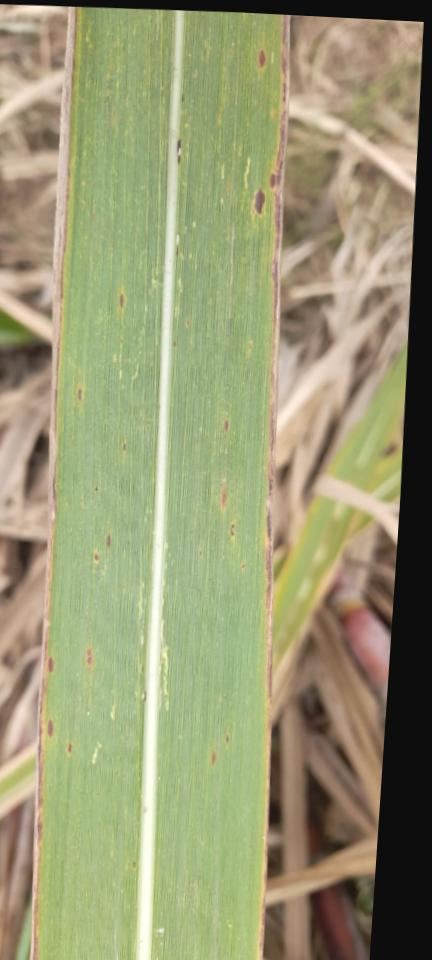Rust: (261, 15, 291, 734), (30, 623, 57, 960), (250, 187, 268, 219), (220, 477, 229, 508), (257, 46, 267, 70), (228, 518, 239, 538), (84, 645, 94, 666), (117, 290, 125, 311), (65, 738, 74, 756), (176, 137, 182, 164), (209, 749, 219, 765), (223, 417, 232, 434), (76, 384, 84, 402), (121, 438, 129, 455), (223, 730, 231, 747), (93, 548, 101, 563), (105, 533, 112, 549)
